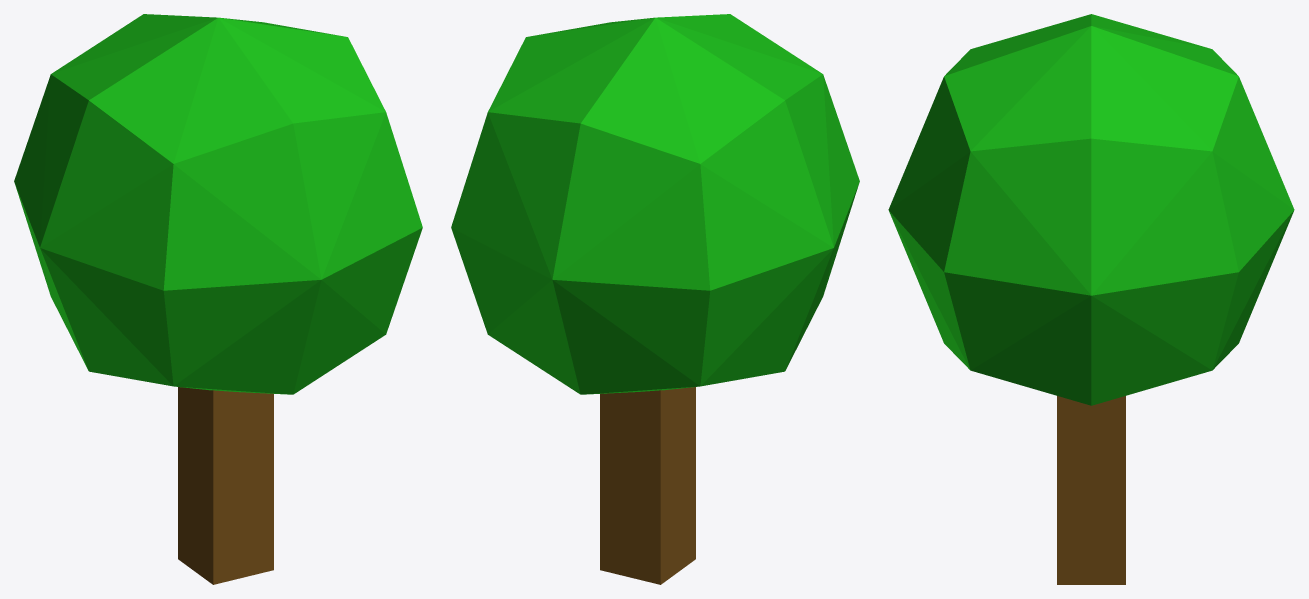
The model's file is Tree.obj.
3 renders of one model, left to right at view 1: azimuth 30°, elevation 25°; view 2: azimuth 150°, elevation 25°; view 3: azimuth 270°, elevation 25°, orthographic.
Visible parts, largest first — view 1: Tree_Cube.003; view 2: Tree_Cube.003; view 3: Tree_Cube.003.
Part boxes in pixels (x1,y1,x2,y2): Tree_Cube.003: (14, 14, 422, 584); Tree_Cube.003: (451, 14, 859, 584); Tree_Cube.003: (888, 14, 1294, 584).
Bounding box in the file's own units: 2.35 × 3.45 × 2.35.
